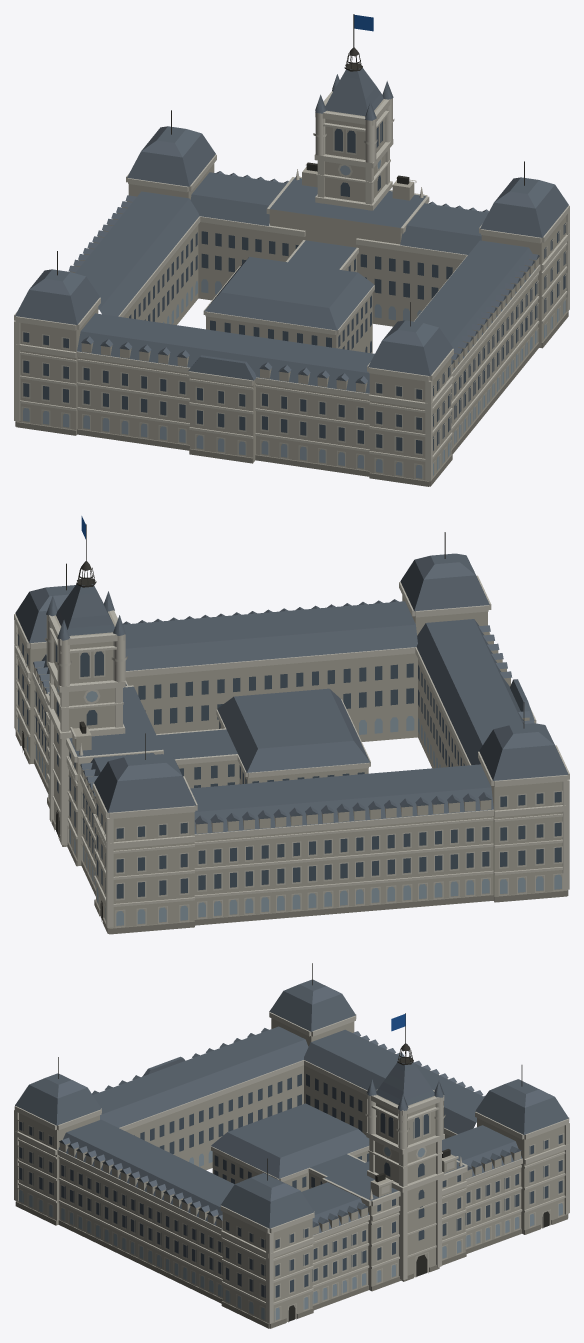
File: hotel-du-parlement-far.glb
3 renders of one model, top to bottom at view 1: azimuth 30°, elevation 25°; view 2: azimuth 150°, elevation 25°; view 3: azimuth 270°, elevation 25°, orthographic. The views are drawn at different scales.
Parts seen in each view (by area): view 1: hotel-du-parlement-0-roof, hotel-du-parlement-0-stone, hotel-du-parlement-0-trim, hotel-du-parlement-0-glass, hotel-du-parlement-0-glow, hotel-du-parlement-0-stoneDark, hotel-du-parlement-0-iron; view 2: hotel-du-parlement-0-roof, hotel-du-parlement-0-stone, hotel-du-parlement-0-trim, hotel-du-parlement-0-glass, hotel-du-parlement-0-glow, hotel-du-parlement-0-stoneDark, hotel-du-parlement-0-iron; view 3: hotel-du-parlement-0-roof, hotel-du-parlement-0-stone, hotel-du-parlement-0-trim, hotel-du-parlement-0-glass, hotel-du-parlement-0-glow, hotel-du-parlement-0-stoneDark, hotel-du-parlement-0-iron.
Part boxes in pixels (box(x1,y1,x2,y2)): hotel-du-parlement-0-roof: box(15, 68, 568, 393); hotel-du-parlement-0-stone: box(17, 99, 566, 481); hotel-du-parlement-0-trim: box(14, 91, 569, 480); hotel-du-parlement-0-glass: box(23, 121, 565, 453); hotel-du-parlement-0-glow: box(23, 160, 565, 478); hotel-du-parlement-0-stoneDark: box(15, 311, 568, 486); hotel-du-parlement-0-iron: box(57, 14, 524, 326); hotel-du-parlement-0-roof: box(15, 553, 568, 834); hotel-du-parlement-0-stone: box(17, 595, 566, 927); hotel-du-parlement-0-trim: box(14, 575, 569, 927); hotel-du-parlement-0-glass: box(18, 634, 561, 898); hotel-du-parlement-0-glow: box(18, 687, 561, 925); hotel-du-parlement-0-stoneDark: box(15, 730, 568, 934); hotel-du-parlement-0-iron: box(22, 524, 524, 920); hotel-du-parlement-0-roof: box(15, 979, 568, 1235); hotel-du-parlement-0-stone: box(18, 1018, 565, 1321); hotel-du-parlement-0-trim: box(14, 1011, 569, 1323); hotel-du-parlement-0-glass: box(19, 1074, 562, 1297); hotel-du-parlement-0-glow: box(19, 1147, 562, 1320); hotel-du-parlement-0-stoneDark: box(15, 1201, 568, 1328); hotel-du-parlement-0-iron: box(58, 963, 549, 1321).
Bounding box in the file's own units: 128 × 64.8 × 128.
